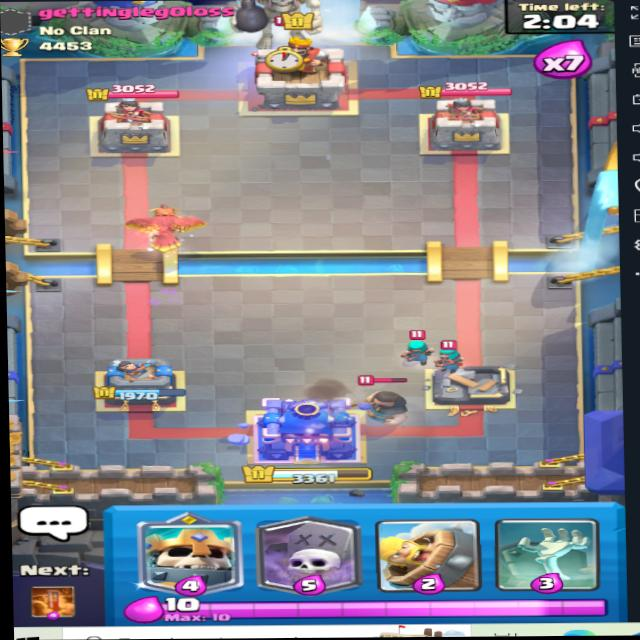giant-skeleton: (225, 0, 326, 49)
rascal-boy: (355, 372, 419, 422)
rascal-girl: (398, 331, 443, 363), (432, 338, 472, 371)
